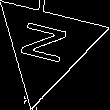N_E: (18, 20, 77, 72)
